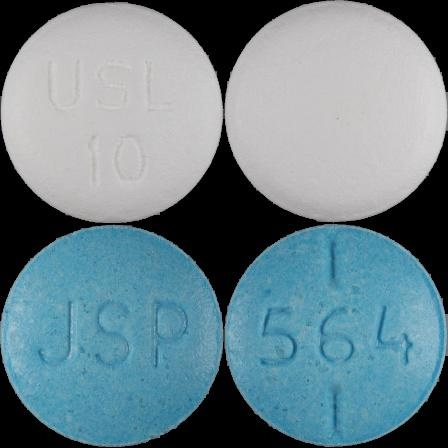58118-1526: (0, 0, 224, 224)
